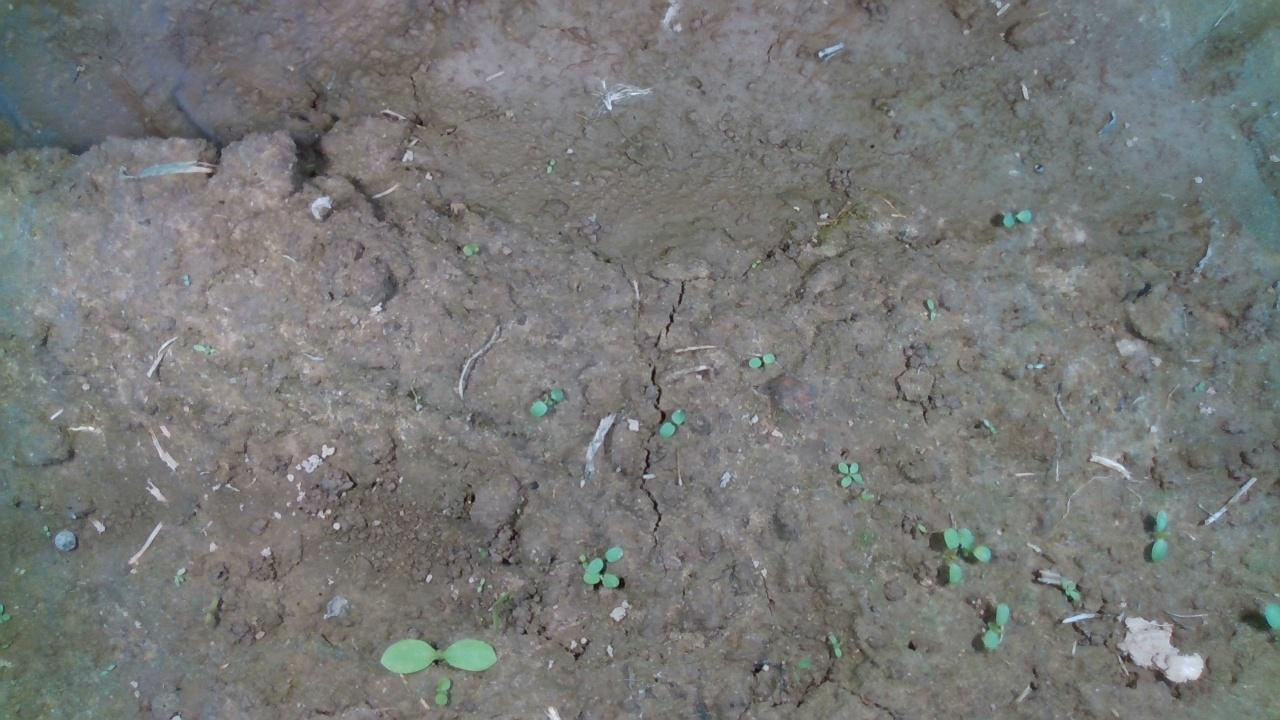weed: (527, 383, 565, 420), (1148, 505, 1169, 563), (833, 456, 863, 490), (656, 403, 682, 440), (742, 347, 775, 372), (431, 673, 453, 709)
